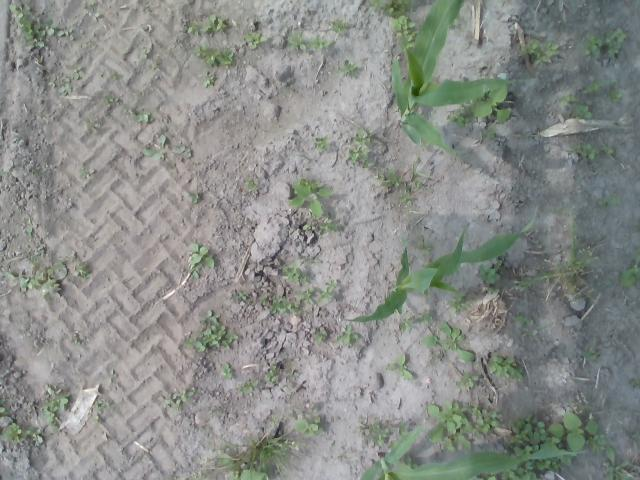Maize: (339, 207, 538, 324), (388, 0, 516, 159), (360, 423, 588, 480)
Weeds: (194, 419, 299, 478), (503, 413, 572, 480), (546, 410, 608, 456), (426, 400, 474, 452), (4, 262, 66, 300), (182, 310, 238, 352), (420, 321, 475, 363), (288, 177, 334, 220), (466, 83, 512, 124), (8, 3, 45, 49), (140, 126, 193, 156), (218, 452, 269, 480), (582, 28, 626, 60), (41, 383, 68, 433), (357, 418, 394, 448), (187, 242, 216, 280), (0, 422, 45, 446), (601, 444, 631, 480), (192, 44, 236, 68), (348, 128, 373, 170), (473, 404, 503, 438), (520, 38, 559, 64), (486, 354, 524, 380), (391, 15, 418, 51), (300, 212, 340, 236), (283, 258, 319, 284), (294, 406, 324, 436), (368, 0, 415, 17), (162, 389, 196, 412), (619, 250, 640, 287), (386, 353, 413, 381), (46, 16, 74, 40), (404, 162, 427, 190), (570, 140, 598, 162), (271, 295, 302, 314), (373, 166, 401, 187), (45, 74, 71, 96), (560, 104, 594, 120), (448, 291, 470, 315), (479, 260, 501, 284), (412, 232, 434, 256), (200, 14, 227, 33), (316, 280, 337, 304), (336, 324, 358, 346), (448, 108, 472, 128), (605, 80, 623, 103), (244, 32, 268, 49), (129, 107, 154, 123), (336, 59, 358, 77), (308, 32, 330, 50), (456, 371, 478, 389), (295, 286, 314, 305), (65, 62, 85, 80), (398, 453, 419, 470), (287, 32, 306, 50), (72, 260, 91, 278), (84, 1, 100, 22), (597, 193, 619, 207), (398, 192, 416, 209), (25, 248, 44, 264), (556, 88, 575, 104), (330, 17, 347, 34), (415, 308, 432, 325), (398, 314, 413, 333), (582, 81, 603, 94), (184, 189, 200, 206), (314, 136, 331, 152), (238, 380, 258, 393), (472, 470, 498, 480), (512, 314, 532, 327), (200, 73, 216, 89), (22, 216, 34, 237), (0, 398, 11, 420), (86, 117, 100, 134), (220, 362, 233, 380), (395, 420, 408, 438), (264, 364, 276, 382), (92, 398, 108, 411), (580, 348, 596, 361), (482, 126, 496, 140), (246, 176, 258, 192), (187, 21, 200, 35), (601, 145, 614, 158), (314, 329, 326, 343), (230, 292, 248, 301), (102, 92, 114, 105), (593, 280, 613, 287), (108, 369, 117, 384), (110, 70, 122, 81), (141, 48, 151, 60), (79, 168, 89, 180), (630, 378, 640, 390), (448, 16, 459, 26), (90, 415, 102, 424), (288, 368, 297, 380), (486, 286, 499, 294), (0, 169, 10, 178), (258, 294, 268, 302), (151, 61, 158, 70), (72, 340, 82, 346), (272, 416, 278, 424), (172, 476, 182, 480)
